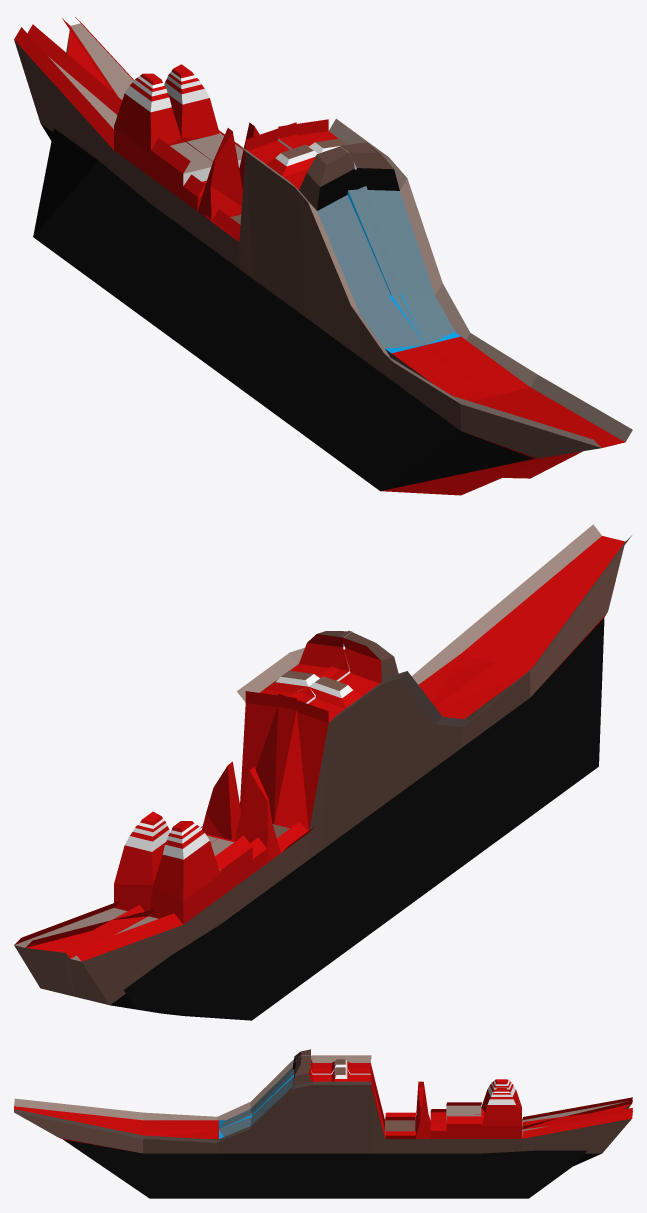
Rendered from gemi.fbx.
The picture shows the model from 3 angles, top to bottom: view 1: azimuth 30°, elevation 25°; view 2: azimuth 150°, elevation 25°; view 3: azimuth 270°, elevation 25°; orthographic projection. The views are drawn at different scales.
Visible parts, largest first — view 1: gemi; view 2: gemi; view 3: gemi.
Part boxes in pixels (x1,y1,x2,y2): gemi: [14, 17, 632, 495]; gemi: [14, 524, 631, 1020]; gemi: [14, 1049, 632, 1198].
Bounding box in the file's own units: 629 × 629 × 2824.
1 material, 1 textured.
